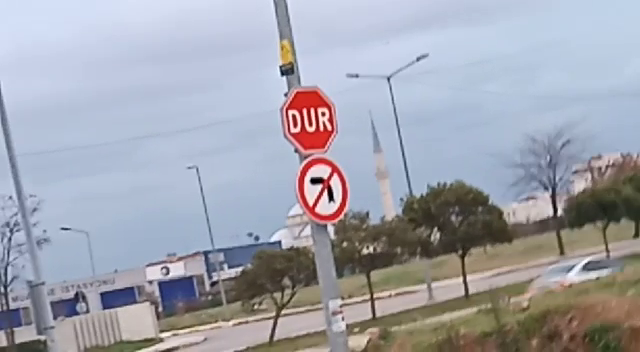no_left: (293, 155, 354, 228)
stop: (278, 82, 340, 157)
